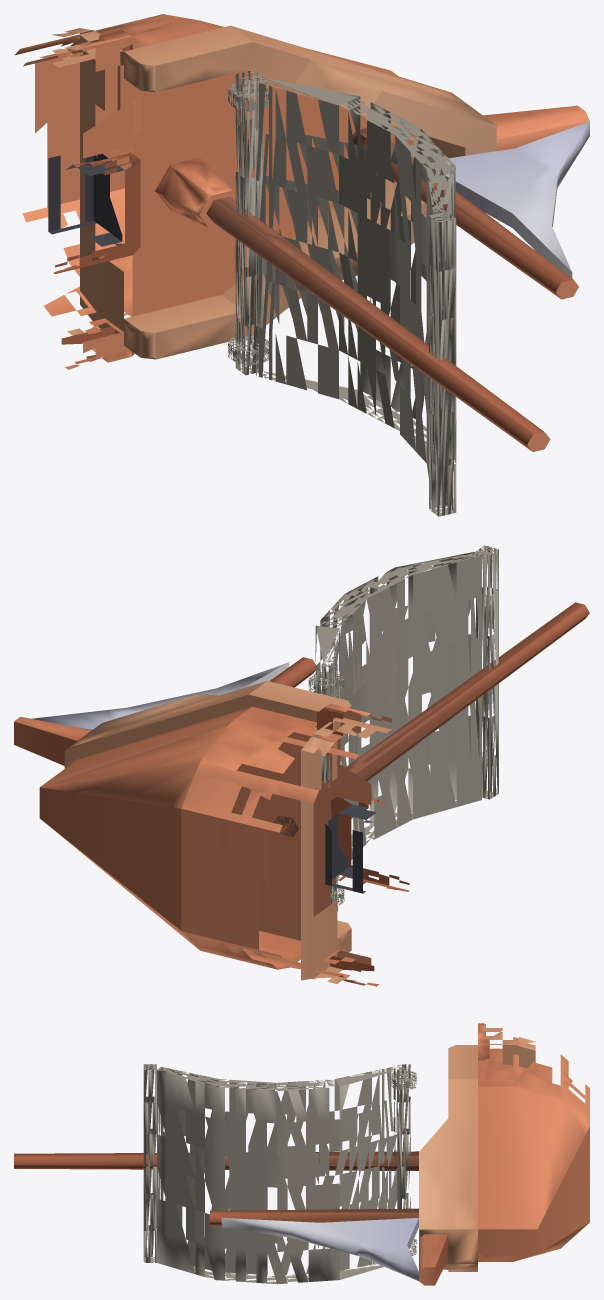
File: SM_Wreck_Medium_Bow.obj
The picture shows the model from 3 angles, top to bottom: view 1: azimuth 30°, elevation 25°; view 2: azimuth 150°, elevation 25°; view 3: azimuth 270°, elevation 25°; orthographic projection. The views are drawn at different scales.
Parts seen in each view (by area): view 1: SM_Wreck_Medium_Bow; view 2: SM_Wreck_Medium_Bow; view 3: SM_Wreck_Medium_Bow.
Part boxes in pixels (x1,y1,x2,y2): SM_Wreck_Medium_Bow: (14,14,589,516); SM_Wreck_Medium_Bow: (14,545,589,986); SM_Wreck_Medium_Bow: (14,1023,589,1285).
Bounding box in the file's own units: 2118 × 1300 × 3224.
Materials: 2 (1 with a texture image).
